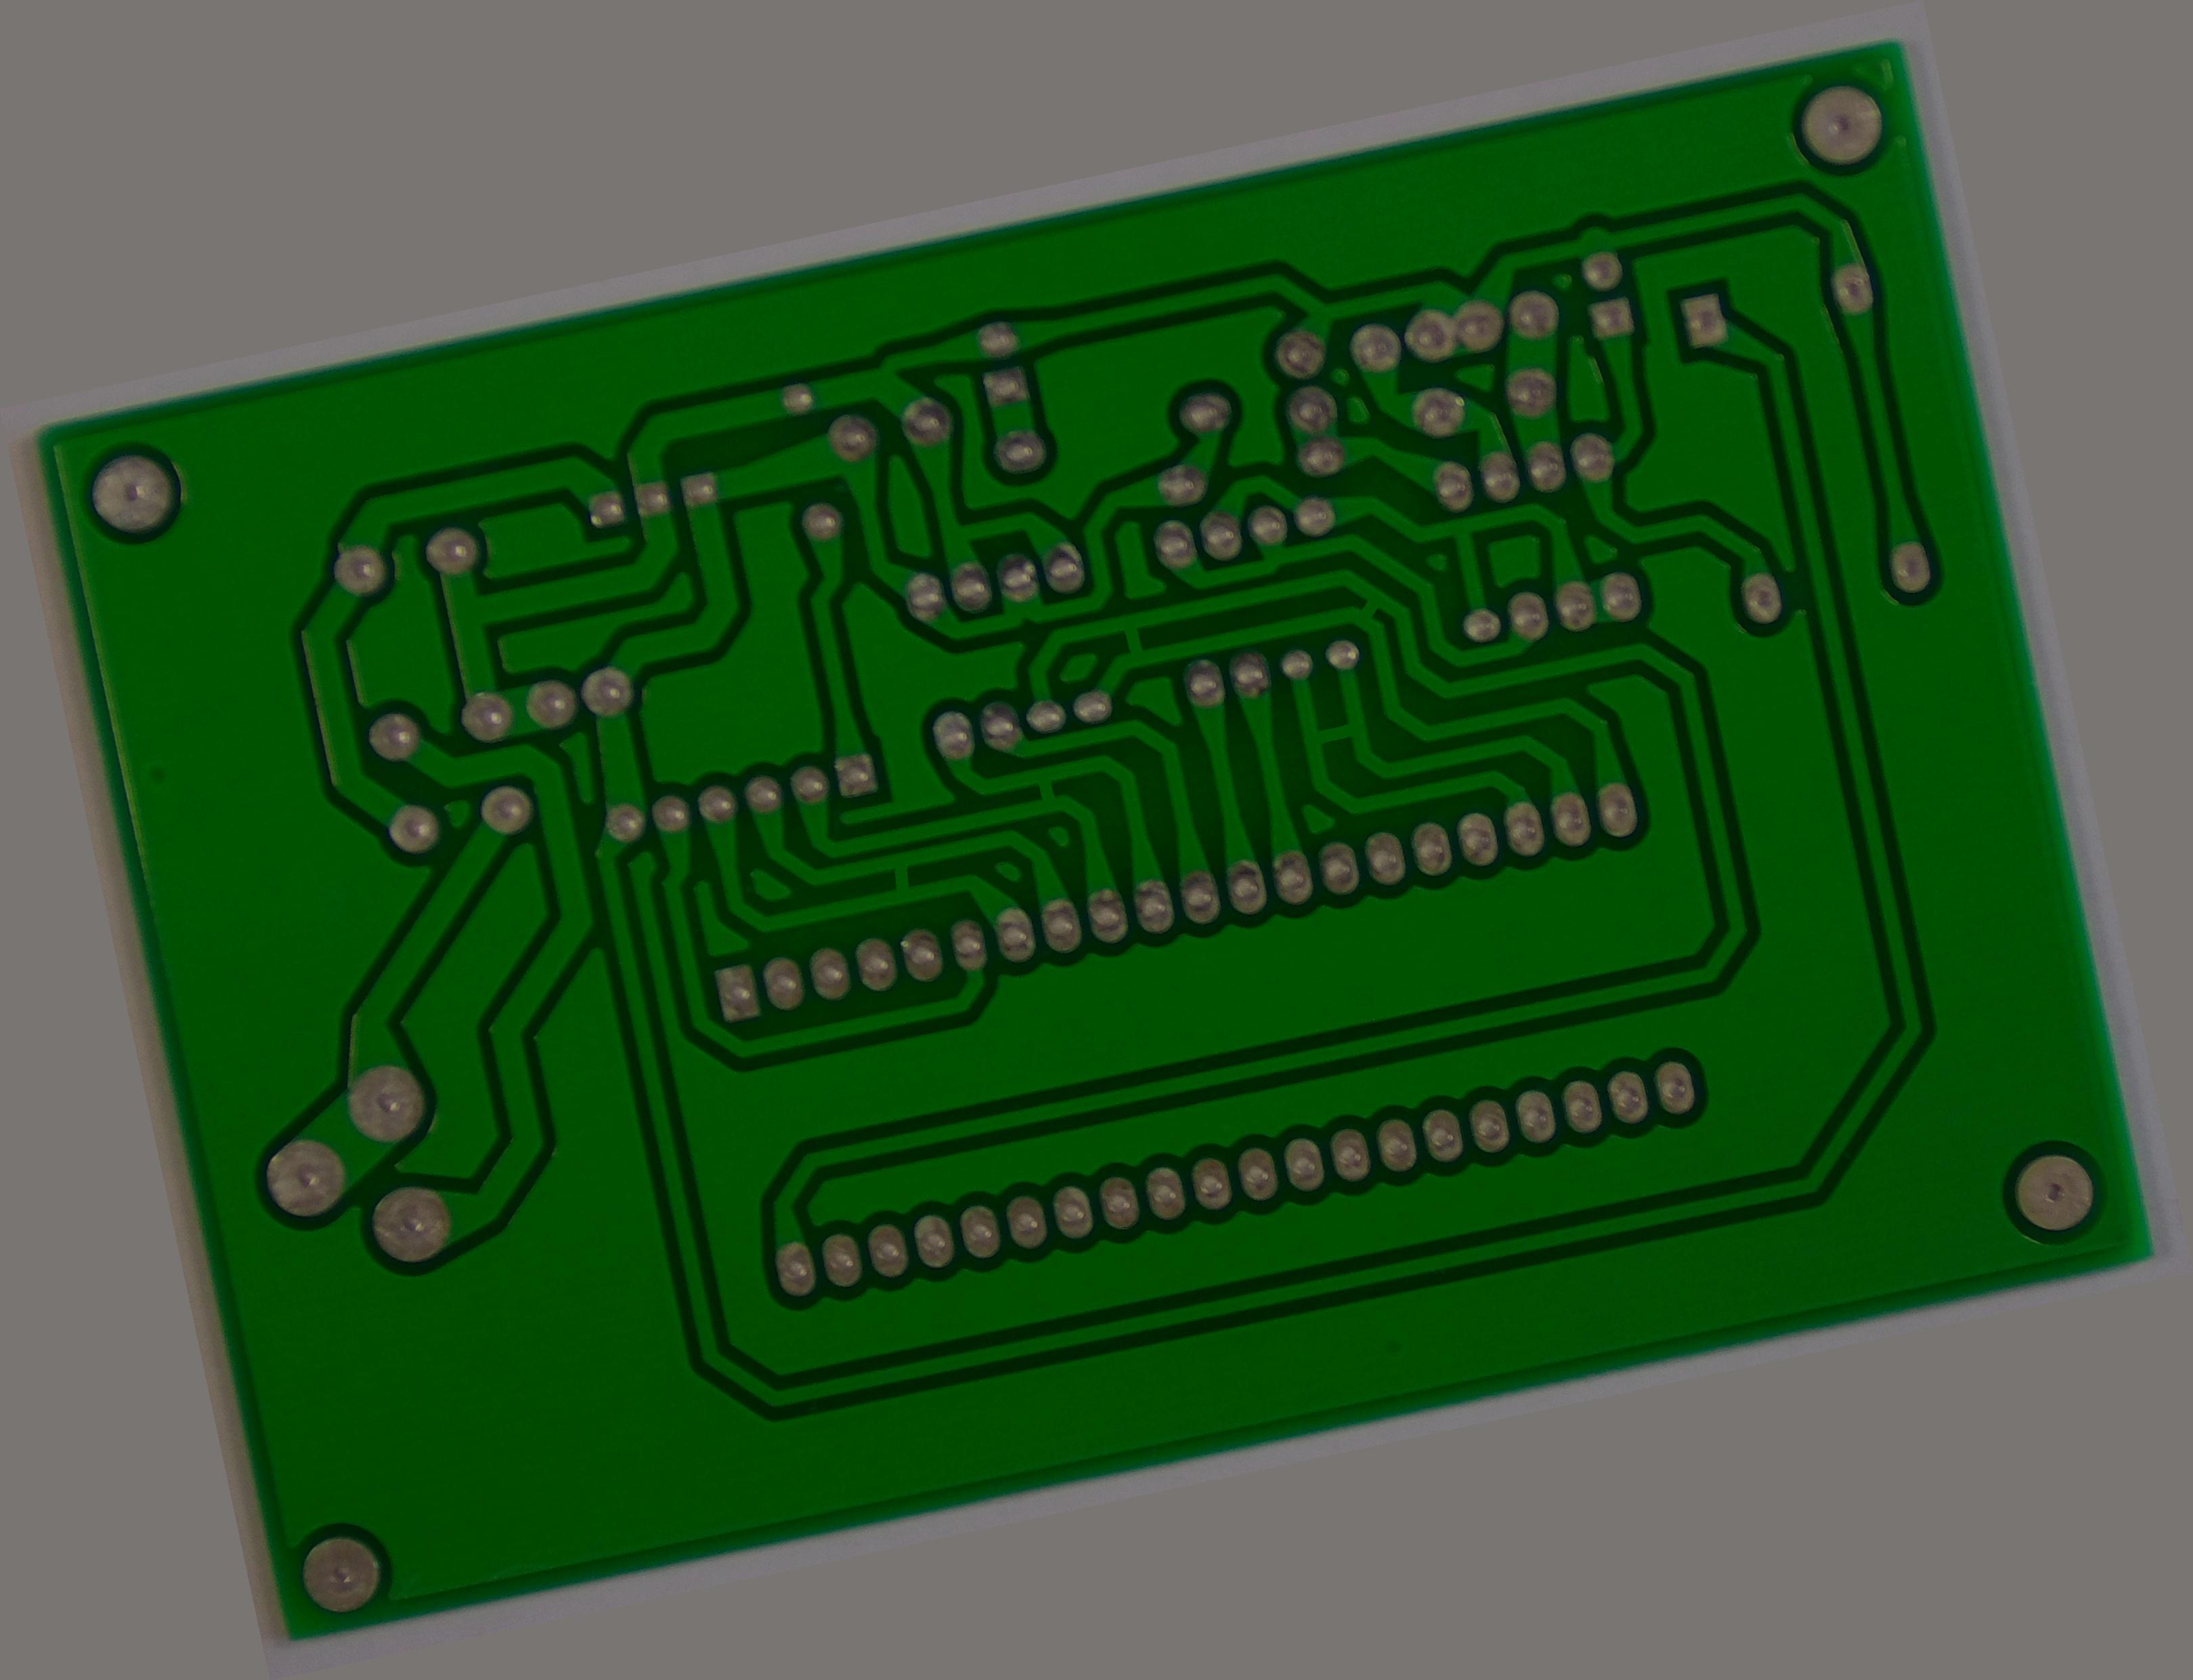short: (1291, 701, 1383, 776), (1006, 750, 1089, 828), (1096, 598, 1177, 676), (861, 838, 942, 914), (1336, 581, 1401, 642)
